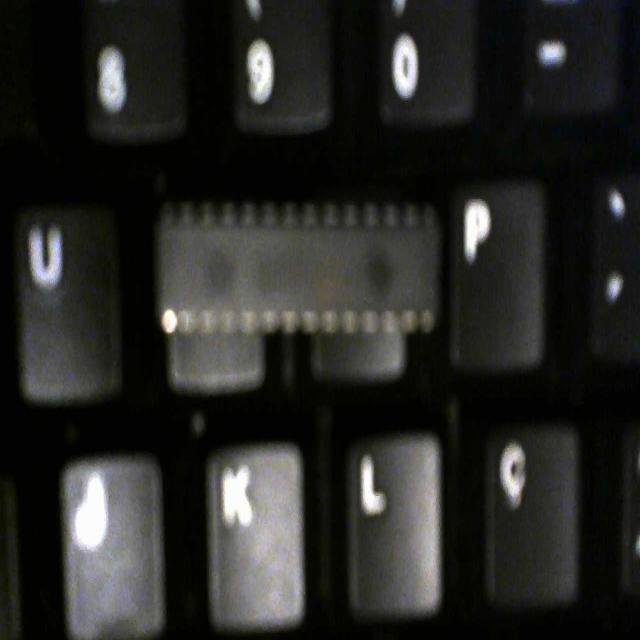atmega: (146, 184, 448, 356)
